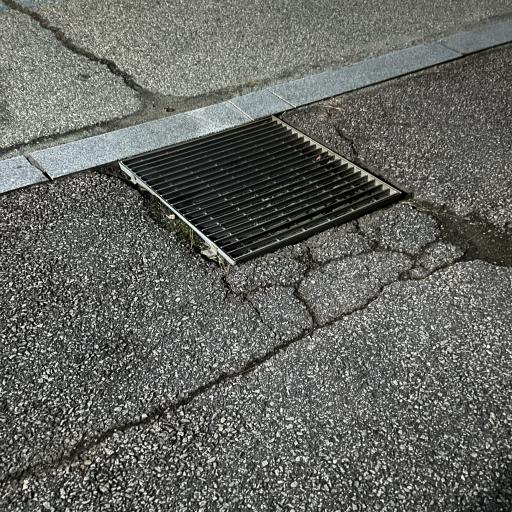drain: (120, 117, 401, 264)
